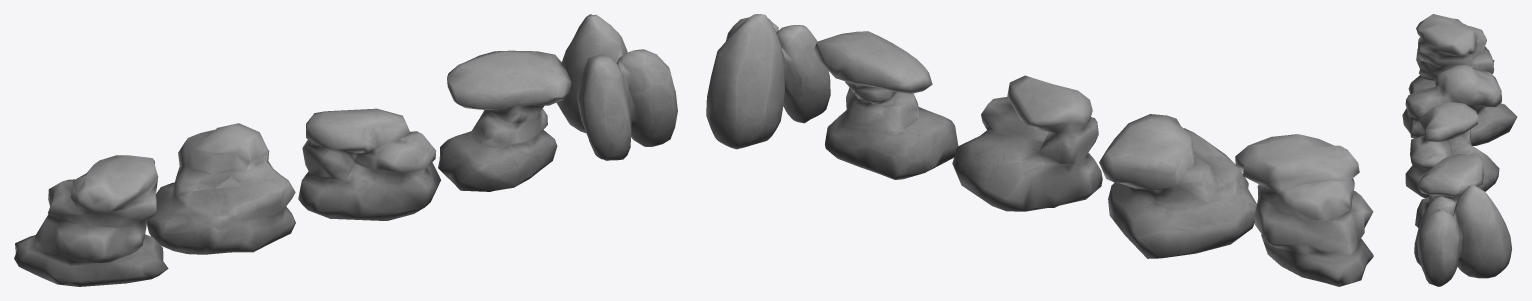
The model's file is rocks2.fbx.
3 views of the same model, side by side, from view 1: azimuth 30°, elevation 25°; view 2: azimuth 150°, elevation 25°; view 3: azimuth 270°, elevation 25° (orthographic). The views are drawn at different scales.
Visible parts, largest first — view 1: MRock1, MRock2, MRock4, MRock3, MRock5; view 2: MRock2, MRock1, MRock3, MRock4, MRock5; view 3: MRock5, MRock2, MRock3, MRock1, MRock4.
Part boxes in pixels (<box>): MRock1: <box>14,155,168,286</box>; MRock2: <box>147,123,295,254</box>; MRock4: <box>438,50,571,191</box>; MRock3: <box>298,108,440,220</box>; MRock5: <box>557,14,677,160</box>; MRock2: <box>1099,114,1256,258</box>; MRock1: <box>1235,134,1373,286</box>; MRock3: <box>952,75,1102,211</box>; MRock4: <box>813,31,958,179</box>; MRock5: <box>706,14,830,149</box>; MRock5: <box>1414,185,1511,286</box>; MRock2: <box>1402,65,1517,145</box>; MRock3: <box>1405,102,1499,198</box>; MRock1: <box>1408,14,1494,94</box>; MRock4: <box>1415,153,1484,228</box>.
Size of the model in its own units: 25.29 by 4.73 by 5.54.
